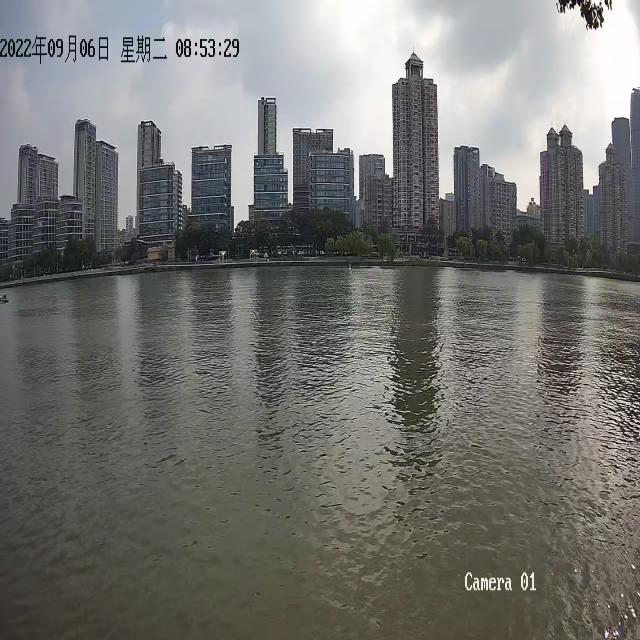ship: (0, 294, 8, 302)
